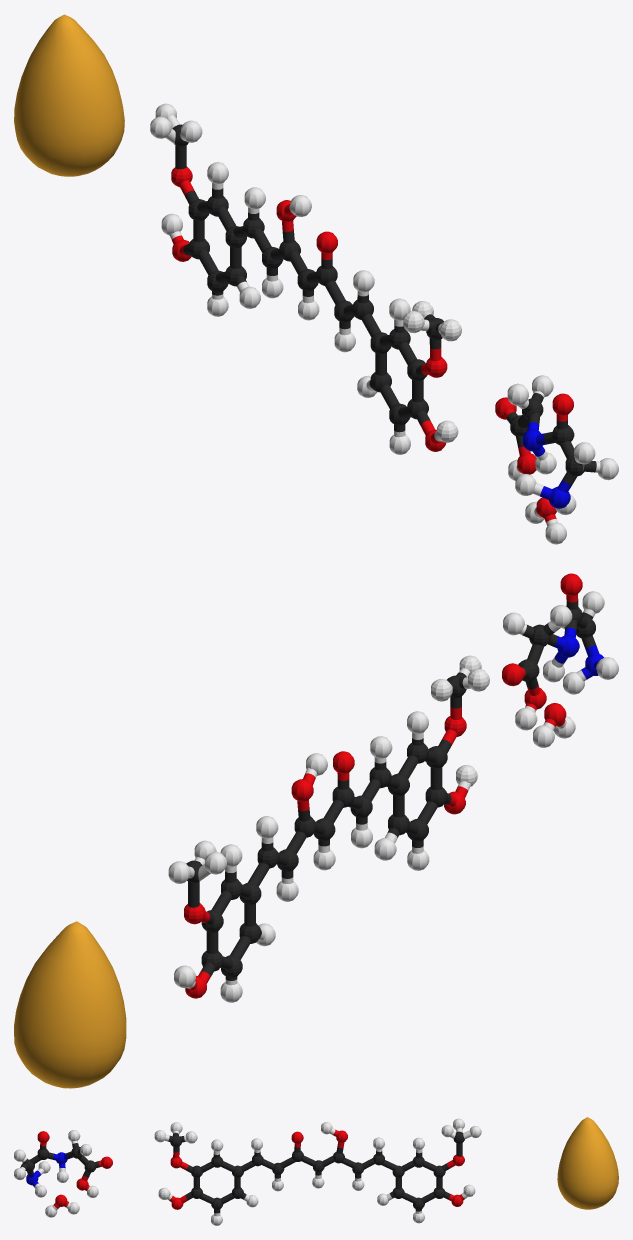
File: capsule.glb.gltf
3 views of the same model, one above another, from view 1: azimuth 30°, elevation 25°; view 2: azimuth 150°, elevation 25°; view 3: azimuth 270°, elevation 25° (orthographic). The views are drawn at different scales.
Visible parts, largest first — view 1: Cylinder.006_Cylinder.001, Sphere.008_Sphere.001, Cylinder.070_Cylinder.001; view 2: Cylinder.006_Cylinder.001, Sphere.008_Sphere.001, Cylinder.070_Cylinder.001; view 3: Cylinder.006_Cylinder.001, Sphere.008_Sphere.001, Cylinder.070_Cylinder.001.
Part boxes in pixels (x1,y1,x2,y2): Cylinder.006_Cylinder.001: (150,103,461,454); Sphere.008_Sphere.001: (14,14,124,176); Cylinder.070_Cylinder.001: (495,375,618,544); Cylinder.006_Cylinder.001: (168,655,489,1002); Sphere.008_Sphere.001: (14,921,126,1088); Cylinder.070_Cylinder.001: (502,573,618,747); Cylinder.006_Cylinder.001: (154,1118,481,1225); Sphere.008_Sphere.001: (557,1117,618,1209); Cylinder.070_Cylinder.001: (14,1130,112,1217).
Size of the model in its own units: 0.3218 by 0.6244 by 3.17.
